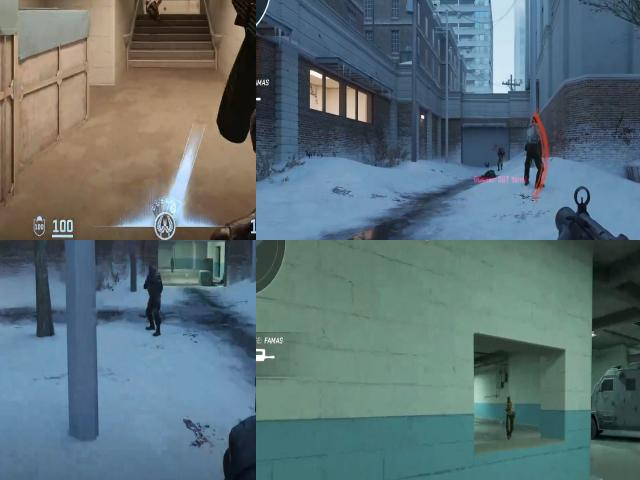CT: (144, 263, 164, 306), (496, 148, 503, 166)
CT-Head: (148, 266, 158, 282)
Dead: (142, 0, 163, 23), (476, 170, 498, 181)
T: (522, 118, 542, 161), (501, 391, 519, 435)
T-Head: (530, 116, 540, 130), (505, 395, 514, 407)
